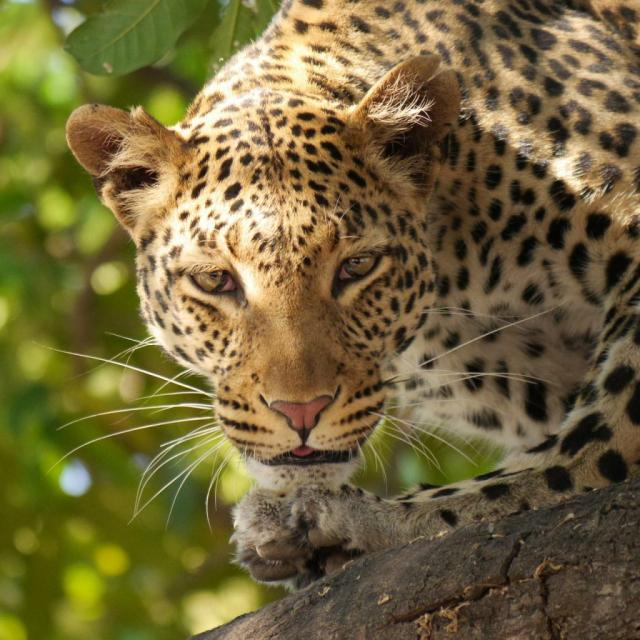Leopard: (68, 6, 631, 552)
